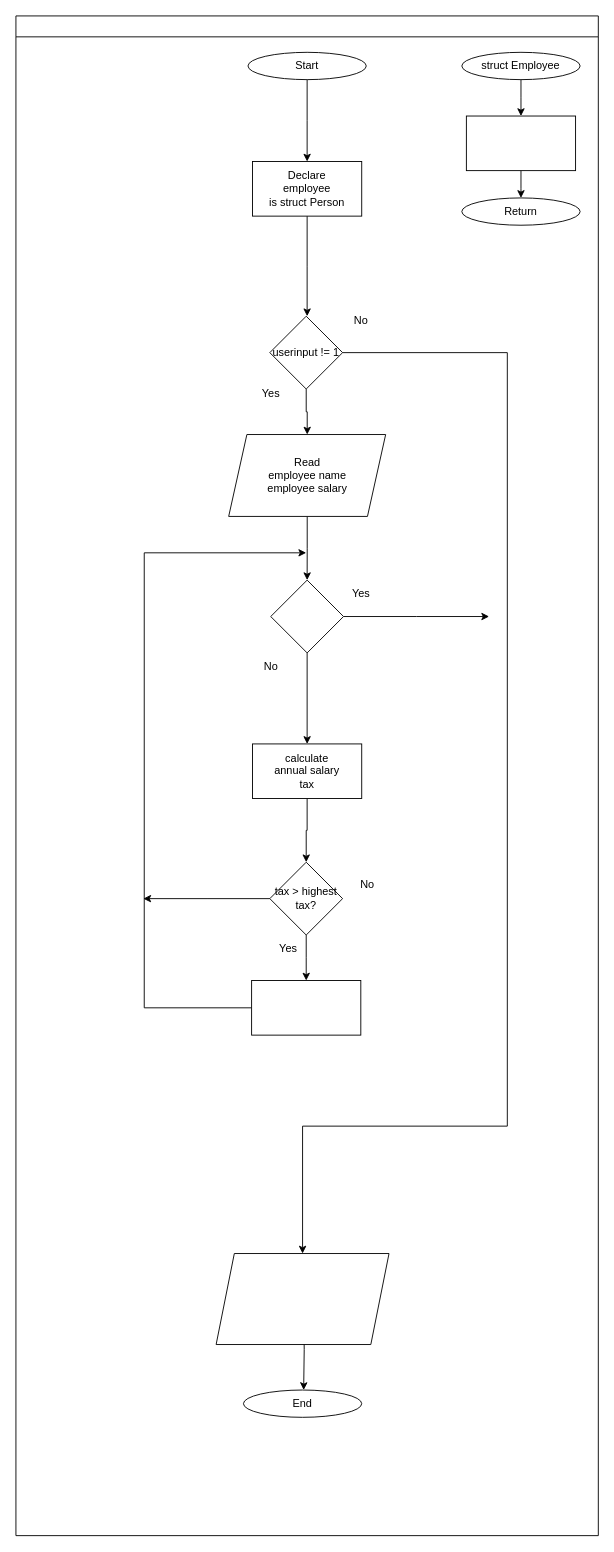
Image size: 614x1552. Some labels were removed from this diagram. The box of each missing label's shape, as (x1, y1, x2, y2) in pixels:
Display salary per month year tax highest tax: (215, 1253, 389, 1345)
Name Age Sex Score: (465, 115, 576, 171)
store highest tax to variable: (251, 980, 361, 1035)
useinput == -1: (270, 579, 344, 653)
